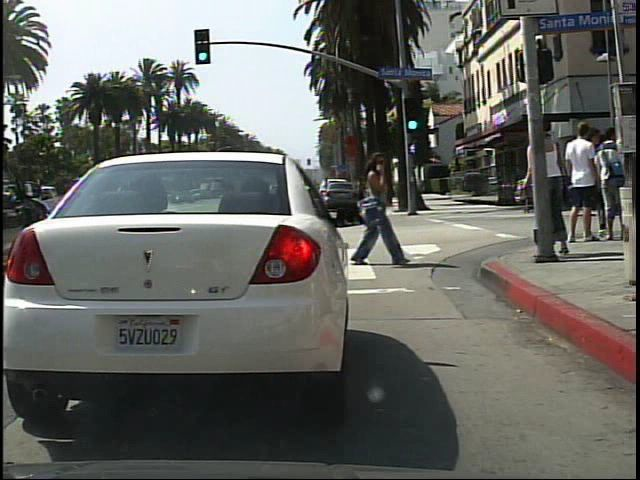person: (348, 142, 404, 271), (529, 122, 573, 264)
